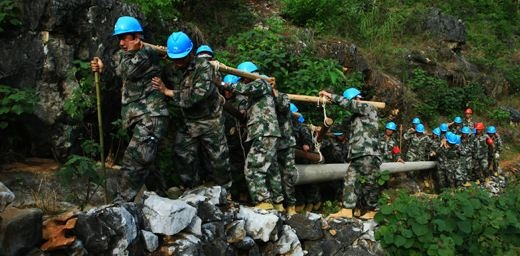blue: (110, 14, 142, 50), (166, 31, 190, 65), (343, 86, 362, 109), (195, 42, 213, 63), (384, 121, 396, 137), (431, 127, 440, 141), (415, 124, 424, 136), (453, 114, 462, 126), (461, 126, 468, 139)
red: (474, 121, 484, 135), (464, 107, 472, 118)
